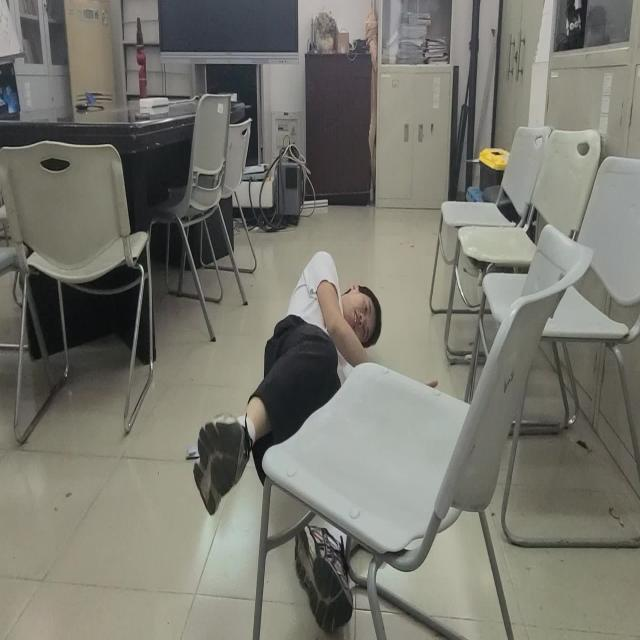Fall-Detected: (191, 242, 405, 636)
